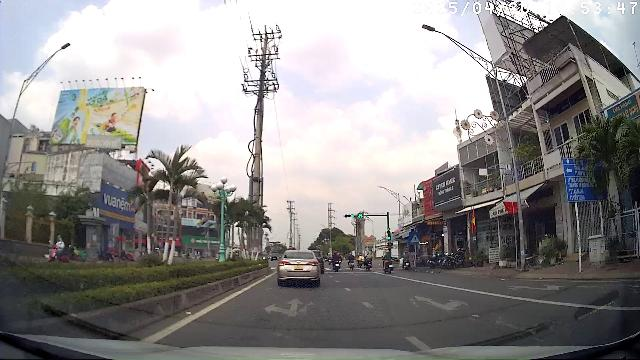423a-duong-nguoi-di-bo-sang-ngang-1: (410, 232, 420, 242)
